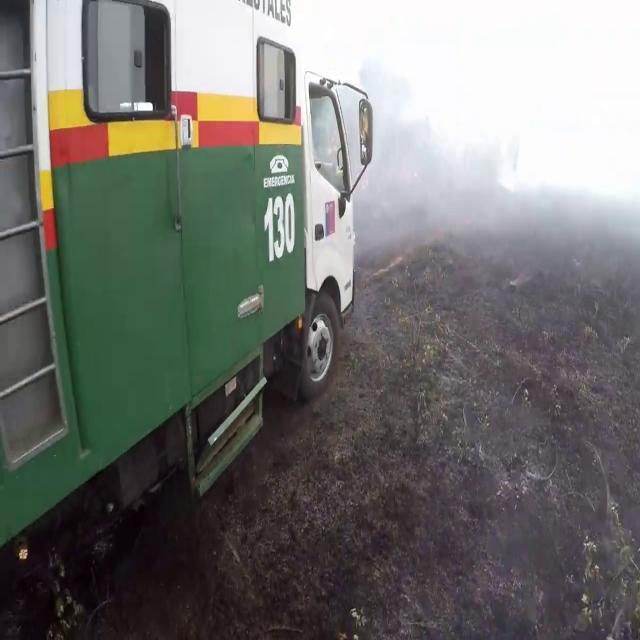Smoke: (355, 3, 640, 250)
